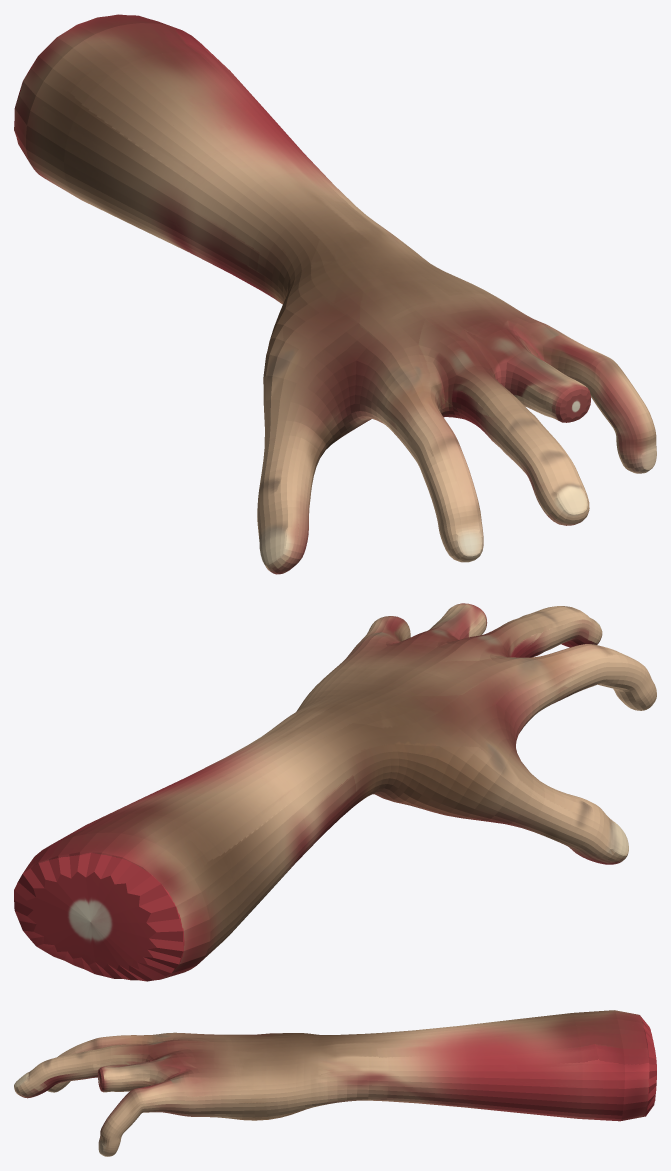
The model's file is arm.fbx.
3 views of the same model, one above another, from view 1: azimuth 30°, elevation 25°; view 2: azimuth 150°, elevation 25°; view 3: azimuth 270°, elevation 25° (orthographic). The views are drawn at different scales.
Parts seen in each view (by area): view 1: hand; view 2: hand; view 3: hand.
Part boxes in pixels (bbox=[...]): hand: bbox=[14, 14, 656, 574]; hand: bbox=[14, 603, 656, 981]; hand: bbox=[14, 1010, 656, 1156].
Size of the model in its own units: 1.61 by 1.14 by 4.43.
